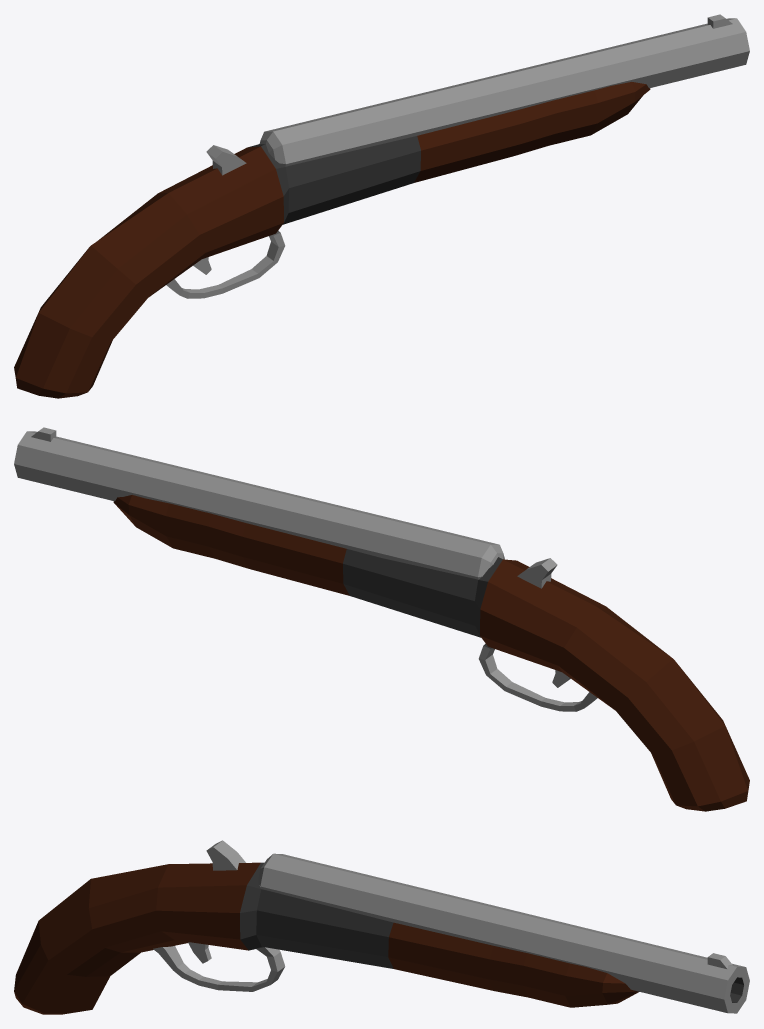
Rendered from shotgun.fbx.
3 views of the same model, one above another, from view 1: azimuth 30°, elevation 25°; view 2: azimuth 150°, elevation 25°; view 3: azimuth 330°, elevation 25° (orthographic).
Parts seen in each view (by area): view 1: shotgun; view 2: shotgun; view 3: shotgun.
Part boxes in pixels (<box>): shotgun: <box>14,14,749,398</box>; shotgun: <box>14,427,749,811</box>; shotgun: <box>14,840,749,1014</box>.
Size of the model in its own units: 4.52 by 1.26 by 0.4761.
